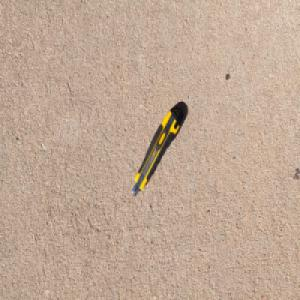Cutter: (130, 103, 184, 198)
